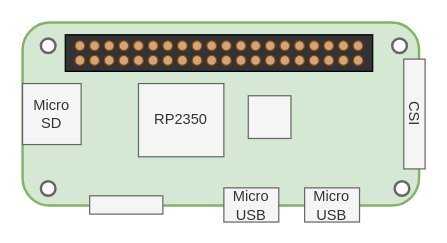
Some shapes in this 447 by 243 pixel diagram are drawn without their labels. Each missing label, with the box of its shape:
HDMI: (88, 195, 163, 214)
WiFi: (247, 95, 291, 138)
